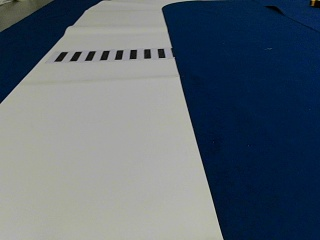crosswalk: (54, 47, 166, 61)
